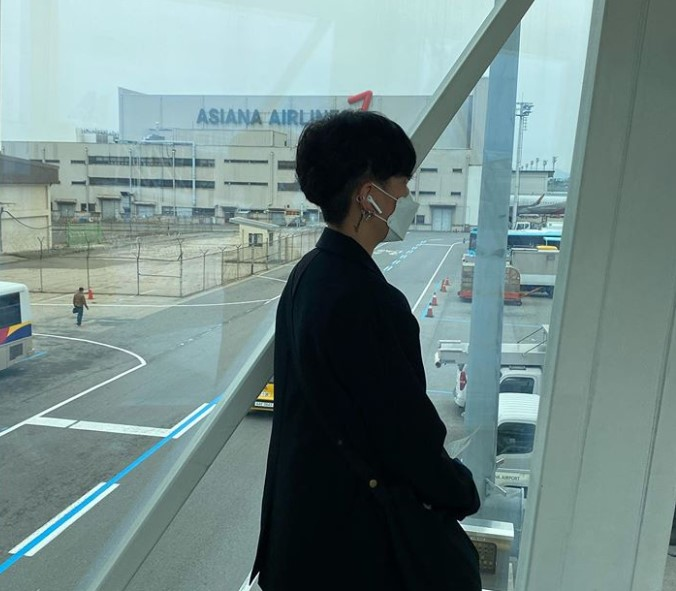face_with_mask: (300, 112, 422, 248)
